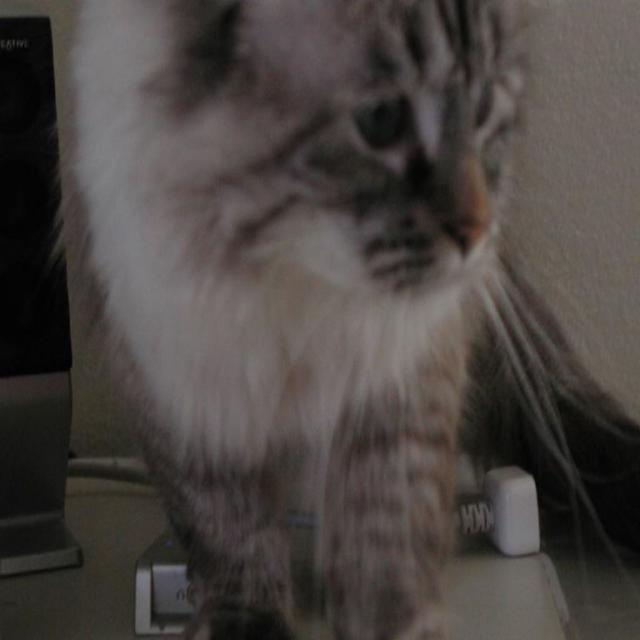Cat: (48, 0, 638, 638)
